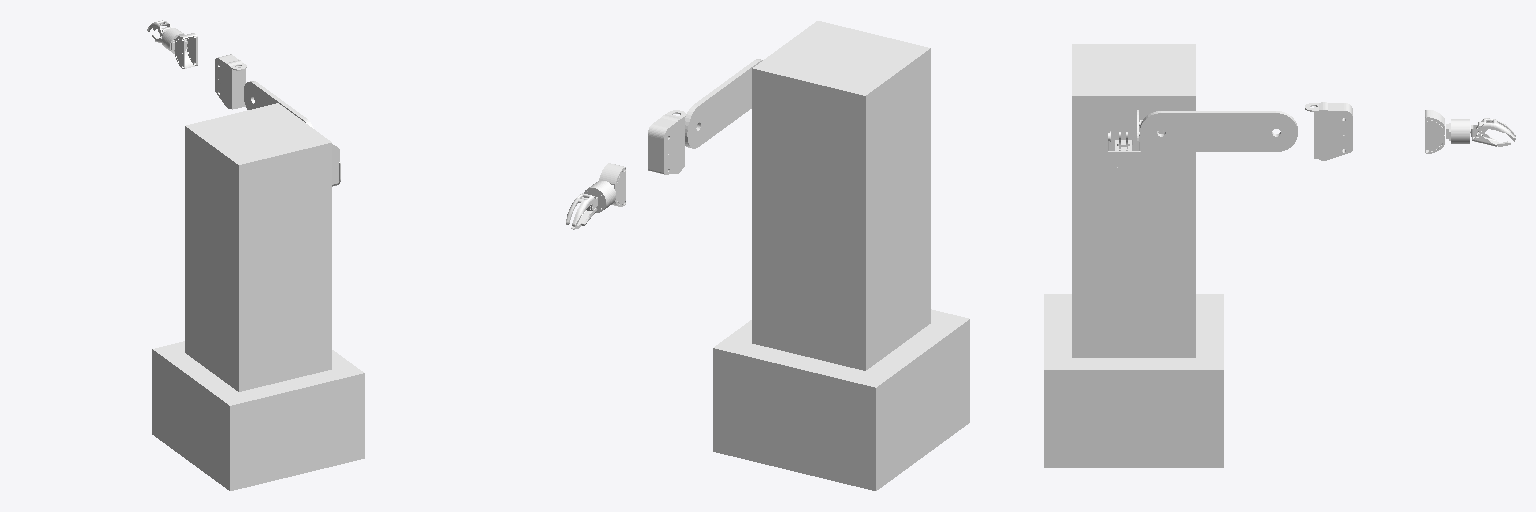
URDF robot description (talos):
<?xml version="1.0" ?>
<!-- =================================================================================== -->
<!-- |    This document was autogenerated by xacro from robot.urdf.xacro               | -->
<!-- |    EDITING THIS FILE BY HAND IS NOT RECOMMENDED                                 | -->
<!-- =================================================================================== -->
<robot name="talos" xmlns:xacro="http://www.ros.org/wiki/xacro">
  <material name="white">
    <color rgba="1.0 1.0 1.0 1.0"/>
  </material>
  <!-- these contain macros for their respective robot part -->
  <link name="base_link">
    <visual>
      <origin rpy="0 0 0" xyz="0 0 0.189085"/>
      <geometry>
        <box size="0.62265 0.62265 0.37817"/>
      </geometry>
      <material name="white"/>
    </visual>
    <collision>
      <origin rpy="0 0 0" xyz="0 0 0.189085"/>
      <geometry>
        <box size="0.62265 0.62265 0.37817"/>
      </geometry>
    </collision>
    <inertial>
      <mass value="8.2"/>
      <inertia ixx="0.362648807123" ixy="0.0" ixz="0.0" iyy="0.52984713075" iyz="0.0" izz="0.362648807123"/>
    </inertial>
  </link>
  <link name="torso_link">
    <visual>
      <origin rpy="0 0 0" xyz="0 0 0.50159"/>
      <geometry>
        <box size="0.4324 0.4324 1.00318"/>
      </geometry>
      <material name="white"/>
    </visual>
    <collision>
      <origin rpy="0 0 0" xyz="0 0 0.50159"/>
      <geometry>
        <box size="0.4324 0.4324 1.00318"/>
      </geometry>
    </collision>
    <inertial>
      <mass value="5.2"/>
      <inertia ixx="0.517113944707" ixy="0.0" ixz="0.0" iyy="0.162040458667" iyz="0.0" izz="0.517113944707"/>
    </inertial>
  </link>
  <joint name="base_to_torso" type="revolute">
    <limit effort="1000.0" lower="-3.14159265359" upper="3.14159265359" velocity="1.0"/>
    <axis xyz="0 0 1"/>
    <parent link="base_link"/>
    <child link="torso_link"/>
    <origin rpy="0 0 0" xyz="0 0 0.37817"/>
    <!--<origin xyz="0 0 ${base_height}" rpy="0 0 0"/>-->
  </joint>
  <transmission name="base_to_torso_trans">
    <type>transmission_interface/SimpleTransmission</type>
    <joint name="base_to_torso"/>
    <actuator name="base_to_torso_motor">
      <hardwareInterface>PositionJointInterface</hardwareInterface>
      <mechanicalReduction>1</mechanicalReduction>
    </actuator>
  </transmission>
  <link name="arm_shoulder_link">
    <visual>
      <origin rpy="1.57079632679 0 1.57079632679" xyz="0 -0.035 -0.11"/>
      <geometry>
        <mesh filename="package://talos_description/meshes/arm/shoulder_link.stl" scale="0.001 0.001 0.001"/>
      </geometry>
      <material name="white"/>
    </visual>
    <collision>
      <origin rpy="0 0 0" xyz="0.053175 0.065 0"/>
      <geometry>
        <box size="0.10635 0.2 0.22"/>
      </geometry>
    </collision>
    <inertial>
      <mass value="0.22"/>
      <inertia ixx="0.00109468924583" ixy="0.0" ixz="0.0" iyy="0.000940689245833" iyz="0.0" izz="0.00162066666667"/>
    </inertial>
  </link>
  <link name="arm_upper_arm_link">
    <visual>
      <origin rpy="0 0 1.57079632679" xyz="0.01 -0.075 -0.075"/>
      <geometry>
        <mesh filename="package://talos_description/meshes/arm/upper_arm_link.stl" scale="0.001 0.001 0.001"/>
      </geometry>
      <material name="white"/>
    </visual>
    <collision>
      <origin rpy="0 0 0" xyz="0 0.2 0"/>
      <geometry>
        <box size="0.02 0.55 0.15"/>
      </geometry>
    </collision>
    <inertial>
      <mass value="0.22"/>
      <inertia ixx="0.000419833333333" ixy="0.0" ixz="0.0" iyy="0.00555316666667" iyz="0.0" izz="0.00595833333333"/>
    </inertial>
  </link>
  <link name="arm_elbow_bracket_link">
    <visual>
      <origin rpy="0 0 1.57079632679" xyz="0.03255 0 -0.10365"/>
      <geometry>
        <mesh filename="package://talos_description/meshes/arm/elbow_bracket_link.stl" scale="0.001 0.001 0.001"/>
      </geometry>
      <material name="white"/>
    </visual>
    <collision>
      <origin rpy="0 0 0" xyz="0 0.0755 0"/>
      <geometry>
        <box size="0.0651 0.151 0.2073"/>
      </geometry>
    </collision>
    <inertial>
      <mass value="0.22"/>
      <inertia ixx="0.0008655405" ixy="0.0" ixz="0.0" iyy="0.000495715183333" iyz="0.0" izz="0.00120586198333"/>
    </inertial>
  </link>
  <link name="arm_elbow_block_link">
    <visual>
      <origin rpy="-1.57079632679 0 -1.57079632679" xyz="-0.03176 0.13672 0.097465"/>
      <geometry>
        <mesh filename="package://talos_description/meshes/arm/elbow_block_link.stl" scale="0.001 0.001 0.001"/>
      </geometry>
      <material name="white"/>
    </visual>
    <collision>
      <origin rpy="0 0 0" xyz="0 0.05261 0"/>
      <geometry>
        <box size="0.06352 0.16822 0.19493"/>
      </geometry>
    </collision>
    <inertial>
      <mass value="0.22"/>
      <inertia ixx="0.000770595747167" ixy="0.0" ixz="0.0" iyy="0.000592767244667" iyz="0.0" izz="0.00121542067717"/>
    </inertial>
  </link>
  <link name="arm_lower_arm_link">
    <visual>
      <origin rpy="-1.57079632679 0 -1.57079632679" xyz="-0.015 0.304 0.07"/>
      <geometry>
        <mesh filename="package://talos_description/meshes/arm/lower_arm_link.stl" scale="0.001 0.001 0.001"/>
      </geometry>
      <material name="white"/>
    </visual>
    <collision>
      <origin rpy="0 0 0" xyz="0 0.119 0"/>
      <geometry>
        <box size="0.03 0.37 0.14"/>
      </geometry>
    </collision>
    <inertial>
      <mass value="0.22"/>
      <inertia ixx="0.000375833333333" ixy="0.0" ixz="0.0" iyy="0.00252633333333" iyz="0.0" izz="0.00286916666667"/>
    </inertial>
  </link>
  <link name="arm_wrist_link">
    <visual>
      <origin rpy="-1.57079632679 0 -1.57079632679" xyz="-0.03175 0.06388 0.07"/>
      <geometry>
        <mesh filename="package://talos_description/meshes/arm/wrist_link.stl" scale="0.001 0.001 0.001"/>
      </geometry>
      <material name="white"/>
    </visual>
    <collision>
      <origin rpy="0 0 0" xyz="0 0.02769 0"/>
      <geometry>
        <box size="0.0635 0.07238 0.14"/>
      </geometry>
    </collision>
    <inertial>
      <mass value="0.22"/>
      <inertia ixx="0.000433257916667" ixy="0.0" ixz="0.0" iyy="0.000169970430667" iyz="0.0" izz="0.000455379180667"/>
    </inertial>
  </link>
  <joint name="torso_to_arm_shoulder" type="revolute">
    <limit effort="1000.0" lower="-1.57079632679" upper="0" velocity="1.0"/>
    <axis xyz="0 0 1"/>
    <parent link="torso_link"/>
    <child link="arm_shoulder_link"/>
    <origin rpy="0 0 0" xyz="0.2162 0 0.89318"/>
    <!--<origin xyz="${body_width/2} 0 ${body_height - shoulder_height/2}" rpy="0 0 0"/>-->
  </joint>
  <joint name="arm_shoulder_to_arm_upper_arm" type="revolute">
    <limit effort="1000.0" lower="-0.785398163397" upper="0.785398163397" velocity="1.0"/>
    <axis xyz="1 0 0"/>
    <parent link="arm_shoulder_link"/>
    <child link="arm_upper_arm_link"/>
    <origin rpy="0 0 0" xyz="0.053175 0.095 0"/>
  </joint>
  <joint name="arm_upper_arm_to_arm_elbow_bracket" type="revolute">
    <limit effort="1000.0" lower="-0.785398163397" upper="0.785398163397" velocity="1.0"/>
    <axis xyz="1 0 0"/>
    <parent link="arm_upper_arm_link"/>
    <child link="arm_elbow_bracket_link"/>
    <origin rpy="0 0 0" xyz="0 0.4 0"/>
  </joint>
  <joint name="arm_elbow_bracket_to_arm_elbow_block" type="revolute">
    <limit effort="1000.0" lower="-0.785398163397" upper="0.785398163397" velocity="1.0"/>
    <axis xyz="0 0 1"/>
    <parent link="arm_elbow_bracket_link"/>
    <child link="arm_elbow_block_link"/>
    <origin rpy="0 0 0" xyz="0 0.129 0"/>
  </joint>
  <joint name="arm_elbow_block_to_arm_lower_arm" type="revolute">
    <limit effort="1000.0" lower="-0.785398163397" upper="0.785398163397" velocity="1.0"/>
    <axis xyz="1 0 0"/>
    <parent link="arm_elbow_block_link"/>
    <child link="arm_lower_arm_link"/>
    <origin rpy="0 0 0" xyz="0 0.106 0"/>
  </joint>
  <joint name="arm_lower_arm_to_arm_wrist" type="revolute">
    <limit effort="1000.0" lower="-0.785398163397" upper="0.785398163397" velocity="1.0"/>
    <axis xyz="1 0 0"/>
    <parent link="arm_lower_arm_link"/>
    <child link="arm_wrist_link"/>
    <origin rpy="0 0 0" xyz="0 0.289 0"/>
  </joint>
  <transmission name="torso_to_arm_shoulder_trans">
    <type>transmission_interface/SimpleTransmission</type>
    <joint name="torso_to_arm_shoulder"/>
    <actuator name="torso_to_shoulder_motor">
      <hardwareInterface>PositionJointInterface</hardwareInterface>
      <mechanicalReduction>1</mechanicalReduction>
    </actuator>
  </transmission>
  <transmission name="arm_shoulder_to_arm_upper_arm_trans">
    <type>transmission_interface/SimpleTransmission</type>
    <joint name="arm_shoulder_to_arm_upper_arm"/>
    <actuator name="arm_shoulder_to_arm_upper_arm_motor">
      <hardwareInterface>PositionJointInterface</hardwareInterface>
      <mechanicalReduction>1</mechanicalReduction>
    </actuator>
  </transmission>
  <transmission name="arm_upper_arm_to_arm_elbow_bracket_trans">
    <type>transmission_interface/SimpleTransmission</type>
    <joint name="arm_upper_arm_to_arm_elbow_bracket"/>
    <actuator name="arm_upper_arm_to_arm_elbow_motor">
      <hardwareInterface>PositionJointInterface</hardwareInterface>
      <mechanicalReduction>1</mechanicalReduction>
    </actuator>
  </transmission>
  <transmission name="arm_elbow_bracket_to_arm_elbow_block_trans">
    <type>transmission_interface/SimpleTransmission</type>
    <joint name="arm_elbow_bracket_to_arm_elbow_block"/>
    <actuator name="arm_elbow_bracket_to_arm_elbow_block_motor">
      <hardwareInterface>PositionJointInterface</hardwareInterface>
      <mechanicalReduction>1</mechanicalReduction>
    </actuator>
  </transmission>
  <transmission name="arm_elbow_block_to_arm_lower_arm_trans">
    <type>transmission_interface/SimpleTransmission</type>
    <joint name="arm_elbow_block_to_arm_lower_arm"/>
    <actuator name="arm_elbow_block_to_arm_lower_arm_motor">
      <hardwareInterface>PositionJointInterface</hardwareInterface>
      <mechanicalReduction>1</mechanicalReduction>
    </actuator>
  </transmission>
  <transmission name="arm_lower_arm_to_arm_wrist_trans">
    <type>transmission_interface/SimpleTransmission</type>
    <joint name="arm_lower_arm_to_arm_wrist"/>
    <actuator name="arm_lower_arm_to_arm_wrist_motor">
      <hardwareInterface>PositionJointInterface</hardwareInterface>
      <mechanicalReduction>1</mechanicalReduction>
    </actuator>
  </transmission>
  <link name="gripper_base_link">
    <visual>
      <origin rpy="0 0 0" xyz="-0.04445 0 -0.04445"/>
      <geometry>
        <mesh filename="package://talos_description/meshes/gripper/gripper_base_link.stl" scale="0.001 0.001 0.001"/>
      </geometry>
      <material name="white"/>
    </visual>
    <collision>
      <origin rpy="0 0 0" xyz="0 0.04158 -0.04445"/>
      <geometry>
        <box size="0.0889 0.08316 0.0889"/>
      </geometry>
    </collision>
    <inertial>
      <mass value="0.22"/>
      <inertia ixx="0.000289784366667" ixy="0.0" ixz="0.0" iyy="0.000271677919333" iyz="0.0" izz="0.000271677919333"/>
    </inertial>
  </link>
  <link name="gripper_stationary_claw_link">
    <visual>
      <origin rpy="0 -1.57079632679 0" xyz="0.021415 0 -0.0555625"/>
      <geometry>
        <mesh filename="package://talos_description/meshes/gripper/stationary_claw_link.stl" scale="0.001 0.001 0.001"/>
      </geometry>
      <material name="white"/>
    </visual>
    <collision>
      <origin rpy="0 0 0" xyz="0 0.072645 0"/>
      <geometry>
        <box size="0.04283 0.14529 0.0862"/>
        <!-- will probably need a better collision element-->
      </geometry>
    </collision>
    <inertial>
      <mass value="0.22"/>
      <inertia ixx="0.000169855563167" ixy="0.0" ixz="0.0" iyy="0.000420632538333" iyz="0.0" izz="0.000523226441833"/>
    </inertial>
  </link>
  <link name="gripper_movable_claw_link">
    <visual>
      <origin rpy="0 3.14159265359 0" xyz="0.028035 -0.01 0.025"/>
      <geometry>
        <mesh filename="package://talos_description/meshes/gripper/movable_claw_link.stl" scale="0.001 0.001 0.001"/>
      </geometry>
      <material name="white"/>
    </visual>
    <collision>
      <origin rpy="0 0 0" xyz="0 0.02769 0"/>
      <geometry>
        <box size="0.0635 0.07238 0.14"/>
      </geometry>
    </collision>
    <inertial>
      <mass value="0.22"/>
      <inertia ixx="0.000433257916667" ixy="0.0" ixz="0.0" iyy="0.000169970430667" iyz="0.0" izz="0.000455379180667"/>
    </inertial>
  </link>
  <joint name="arm_wrist_to_gripper_base" type="revolute">
    <limit effort="1000.0" lower="-3.14159265359" upper="3.14159265359" velocity="1.0"/>
    <axis xyz="0 1 0"/>
    <parent link="arm_wrist_link"/>
    <child link="gripper_base_link"/>
    <origin rpy="0 0 0" xyz="0 0.06388 0"/>
    <!--<origin xyz="0 ${wrist_length - wrist_offset} 0" rpy="0 0 0"/>-->
  </joint>
  <joint name="gripper_base_to_stationary_claw" type="fixed">
    <parent link="gripper_base_link"/>
    <child link="gripper_stationary_claw_link"/>
    <origin rpy="0 0 0" xyz="0 0.08316 0"/>
  </joint>
  <joint name="gripper_stationary_claw_to_gripper_movable_claw" type="revolute">
    <limit effort="1000.0" lower="-0.224399475256" upper="0.785398163397" velocity="1.0"/>
    <axis xyz="1 0 0"/>
    <parent link="gripper_stationary_claw_link"/>
    <child link="gripper_movable_claw_link"/>
    <origin rpy="0 0 0" xyz="0 0.041 0.018"/>
  </joint>
  <transmission name="arm_to_wrist_gripper_base_trans">
    <type>transmission_interface/SimpleTransmission</type>
    <joint name="arm_to_wrist_gripper_base"/>
    <actuator name="arm_to_wrist_gripper_base_motor">
      <hardwareInterface>PositionJointInterface</hardwareInterface>
      <mechanicalReduction>1</mechanicalReduction>
    </actuator>
  </transmission>
  <transmission name="gripper_base_to_stationary_claw_trans">
    <type>transmission_interface/SimpleTransmission</type>
    <joint name="gripper_base_to_stationary_claw"/>
    <actuator name="gripper_base_to_stationary_claw_motor">
      <hardwareInterface>PositionJointInterface</hardwareInterface>
      <mechanicalReduction>1</mechanicalReduction>
    </actuator>
  </transmission>
  <transmission name="gripper_stationary_claw_to_gripper_movable_claw_trans">
    <type>transmission_interface/SimpleTransmission</type>
    <joint name="gripper_stationary_claw_to_gripper_movable_claw"/>
    <actuator name="gripper_stationary_claw_to_gripper_movable_claw_motor">
      <hardwareInterface>PositionJointInterface</hardwareInterface>
      <mechanicalReduction>1</mechanicalReduction>
    </actuator>
  </transmission>
</robot>

--- Facts derived from the render (not from the file) ---
3 views of the same robot in one strip: view 1: azimuth 30°, elevation 25°; view 2: azimuth 150°, elevation 25°; view 3: azimuth 270°, elevation 25° (orthographic).
Robot: talos — 11 links, 10 joints (9 revolute, 1 fixed); root link base_link; default pose: every joint at zero.
Links seen in each view (by area): view 1: torso_link, base_link, arm_elbow_block_link, arm_upper_arm_link, arm_wrist_link; view 2: torso_link, base_link, arm_upper_arm_link, arm_elbow_block_link, arm_wrist_link, gripper_base_link; view 3: torso_link, base_link, arm_upper_arm_link, arm_elbow_block_link, arm_shoulder_link, arm_wrist_link, gripper_base_link.
Boxes of the visible links, bbox=[...] form: torso_link: bbox=[185, 103, 331, 391]; base_link: bbox=[152, 341, 364, 490]; arm_elbow_block_link: bbox=[215, 54, 246, 109]; arm_upper_arm_link: bbox=[244, 81, 313, 128]; arm_wrist_link: bbox=[175, 33, 197, 68]; torso_link: bbox=[752, 21, 930, 370]; base_link: bbox=[713, 309, 969, 490]; arm_upper_arm_link: bbox=[685, 59, 762, 148]; arm_elbow_block_link: bbox=[648, 110, 685, 174]; arm_wrist_link: bbox=[599, 163, 625, 206]; gripper_base_link: bbox=[584, 181, 615, 212]; torso_link: bbox=[1072, 44, 1195, 357]; base_link: bbox=[1044, 294, 1223, 467]; arm_upper_arm_link: bbox=[1140, 111, 1297, 151]; arm_elbow_block_link: bbox=[1305, 102, 1352, 160]; arm_shoulder_link: bbox=[1107, 110, 1163, 183]; arm_wrist_link: bbox=[1425, 110, 1444, 153]; gripper_base_link: bbox=[1446, 119, 1469, 143].
Size in the robot's own frame: 0.6389 by 1.64 by 1.38 metres.
Meshes: 9 distinct files referenced, 7 mesh visuals loaded (7 binary STL); not drawn: 2 (reference not matched to a file when rendering).